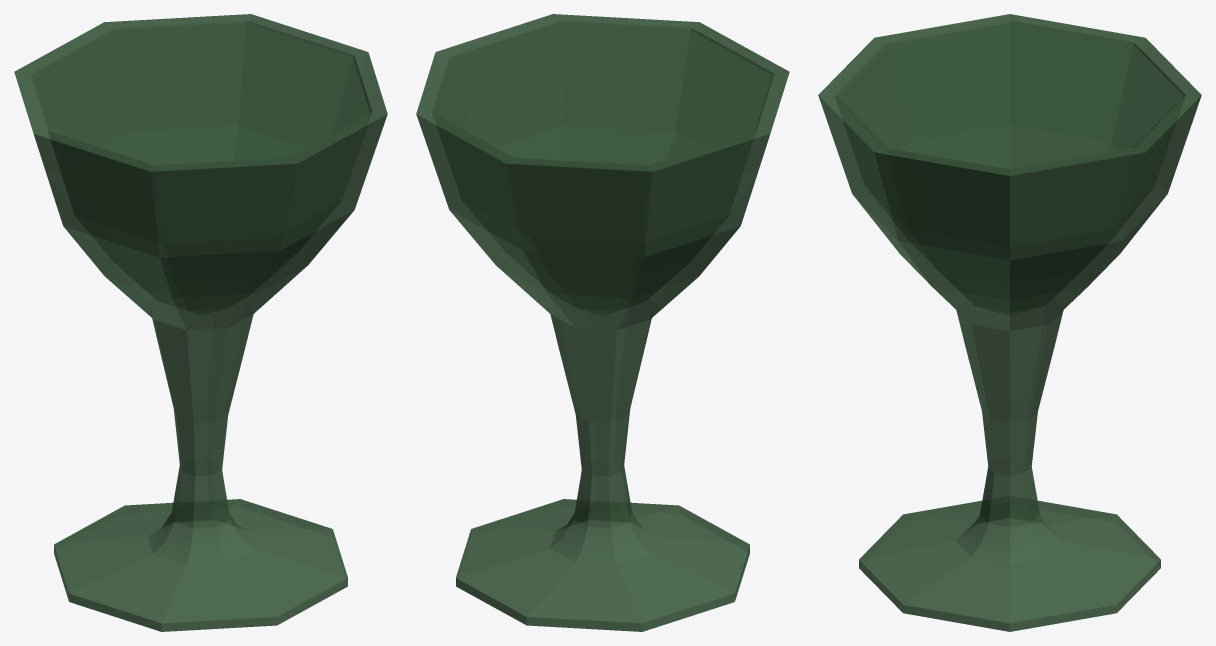
File: Wine Glass.fbx
The picture shows the model from 3 angles, left to right: view 1: azimuth 30°, elevation 25°; view 2: azimuth 150°, elevation 25°; view 3: azimuth 270°, elevation 25°; orthographic projection.
Visible parts, largest first — view 1: polySurface19, polySurface21; view 2: polySurface19, polySurface21; view 3: polySurface19, polySurface21.
Part boxes in pixels (x1,y1,x2,y2): polySurface19: (14, 14, 387, 631); polySurface21: (31, 22, 370, 165); polySurface19: (416, 14, 789, 631); polySurface21: (433, 22, 772, 165); polySurface19: (818, 14, 1201, 631); polySurface21: (836, 23, 1183, 169).
Size of the model in its own units: 2.6 by 3.54 by 2.6.
